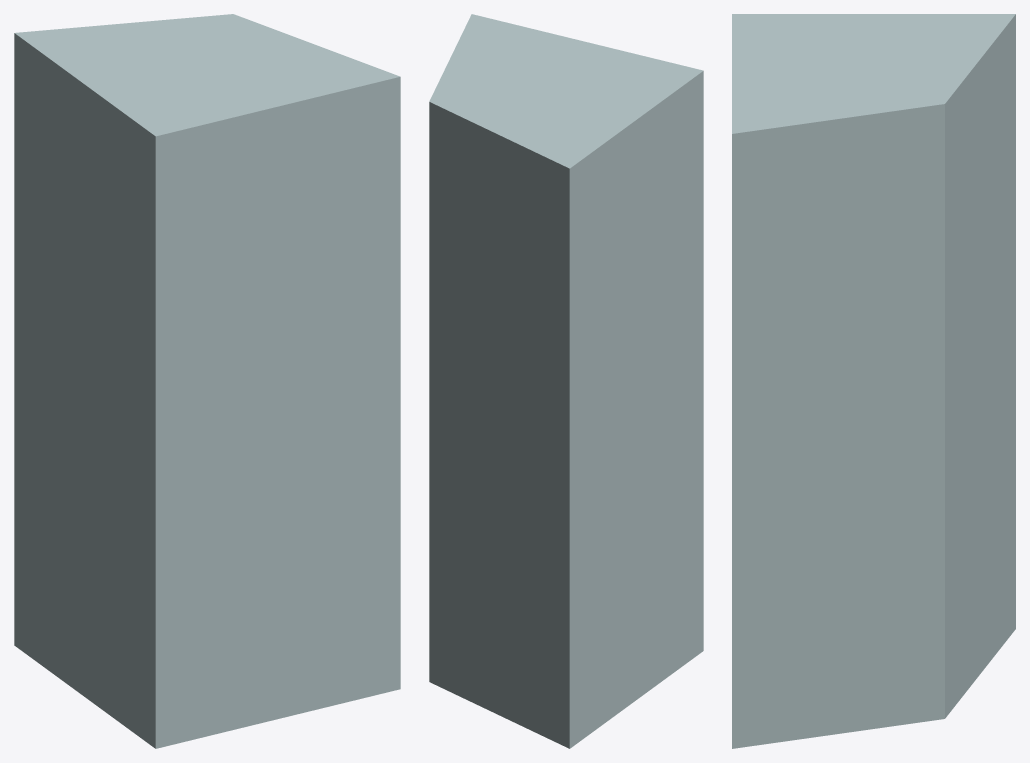
The model's file is cliff_cornerLarge_stone.glb.
The picture shows the model from 3 angles, left to right: view 1: azimuth 30°, elevation 25°; view 2: azimuth 150°, elevation 25°; view 3: azimuth 270°, elevation 25°; orthographic projection. The views are drawn at different scales.
Parts seen in each view (by area): view 1: cliff_cornerLarge_stone; view 2: cliff_cornerLarge_stone; view 3: cliff_cornerLarge_stone.
Boxes of the visible parts, x1=… form: cliff_cornerLarge_stone: x1=14, y1=14, x2=400, y2=748; cliff_cornerLarge_stone: x1=429, y1=14, x2=703, y2=748; cliff_cornerLarge_stone: x1=732, y1=14, x2=1015, y2=748.
Size of the model in its own units: 0.4185 by 1 by 0.4185.
